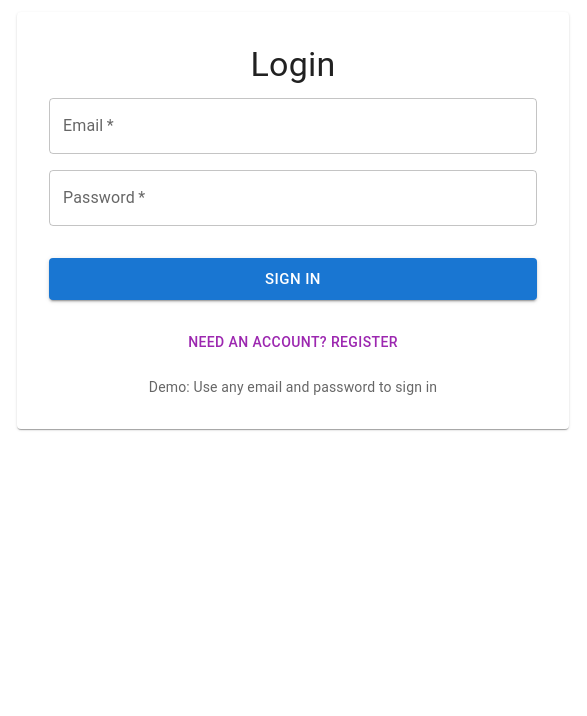
it: Login Page › should switch back to login mode from register mode
Switch to register mode
Click the button "Need an account? Register" at (293, 342), box [49,324,537,361]
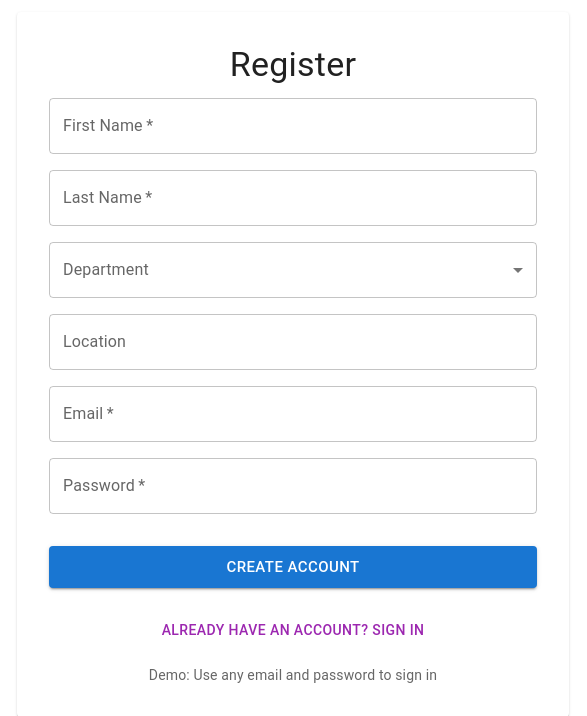
Switch back to login mode
Click the button "Already have an account? Sign In" at (293, 630), box [49,612,537,649]
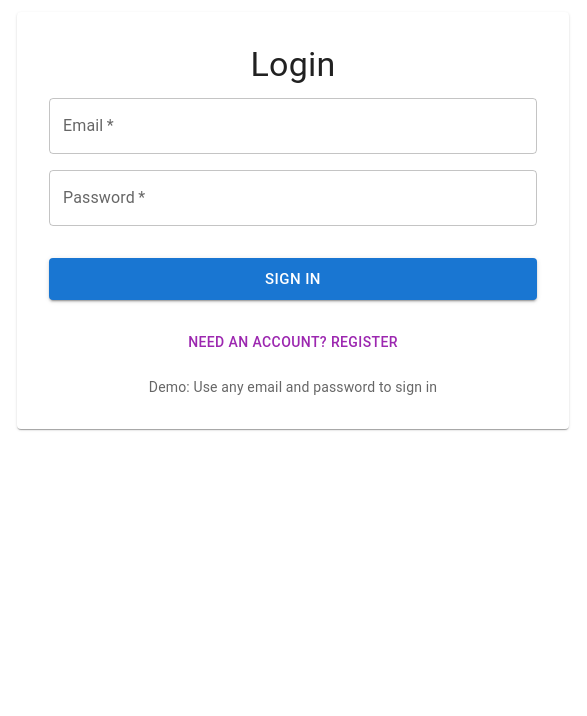
Check: the heading "Login" is shown, box [250,44,336,84]
Check: the label labelled "First Name" is gone
